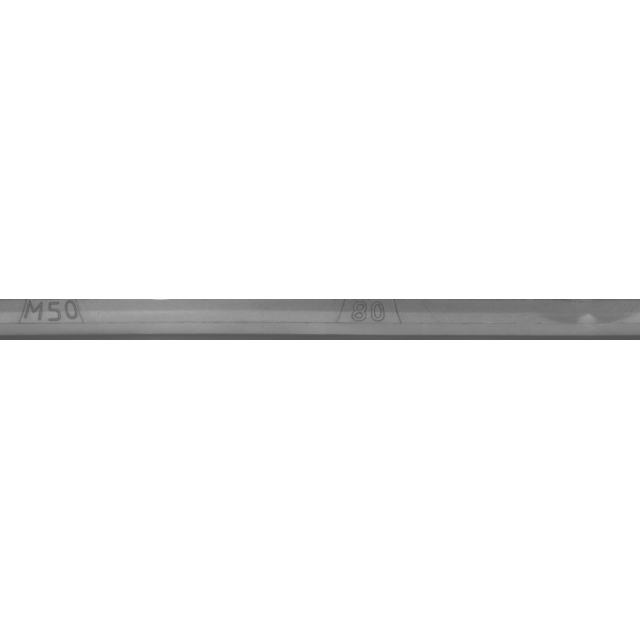mohao: (0, 270, 150, 370)
xuehao: (270, 270, 470, 370)
